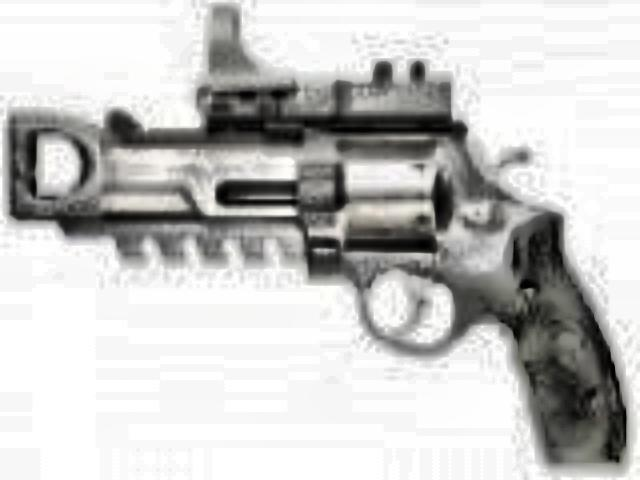pistol: (8, 88, 628, 468)
